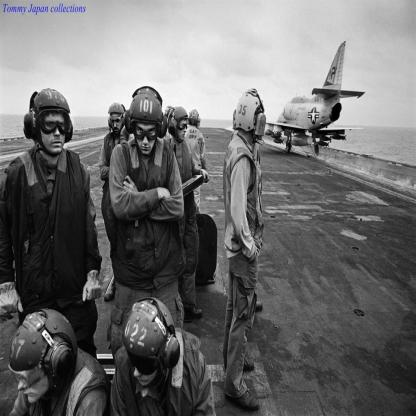Helmet: (3, 312, 94, 388), (123, 295, 178, 389), (28, 86, 72, 157), (126, 88, 168, 146), (230, 96, 273, 142), (108, 100, 130, 138), (170, 104, 187, 137), (188, 106, 204, 126), (163, 106, 176, 119)
